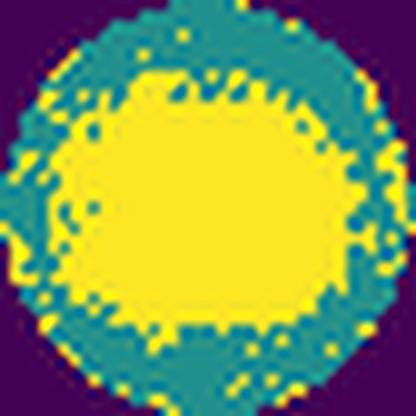Center: (52, 70, 358, 328)
